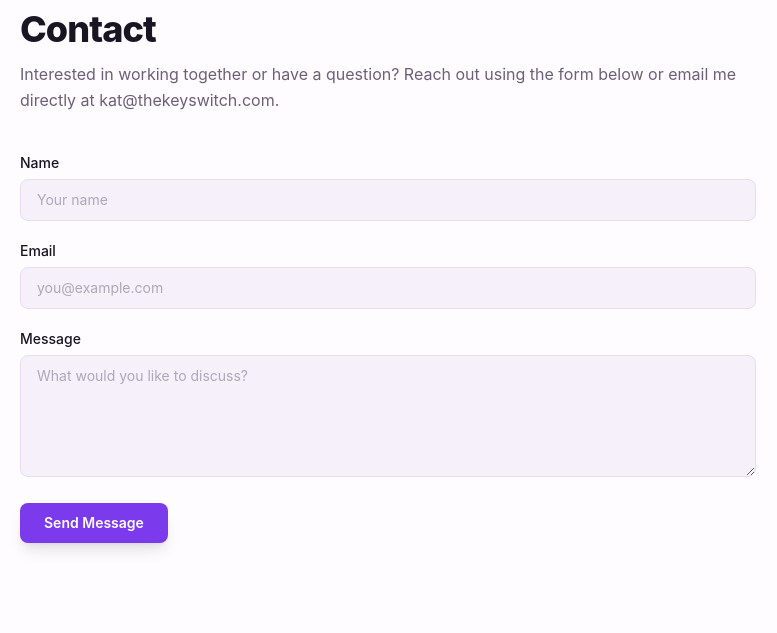
Test: ContactPage › shows generic error on network failure
The width and height of the screenshot is (777, 633).
Type "Test User" into the field labelled "Name" at (388, 200), box [20, 179, 756, 221]
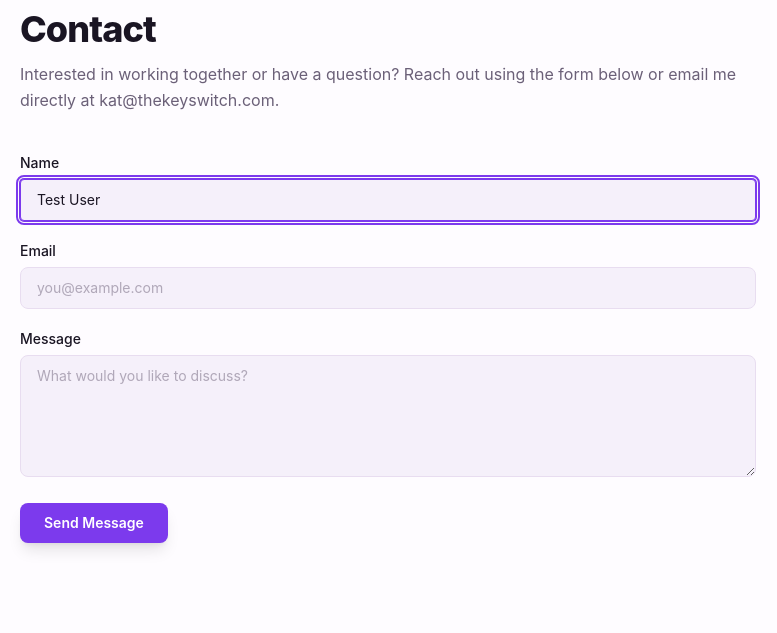
Type "test@example.com" into the field labelled "Email" at (388, 288), box [20, 267, 756, 309]
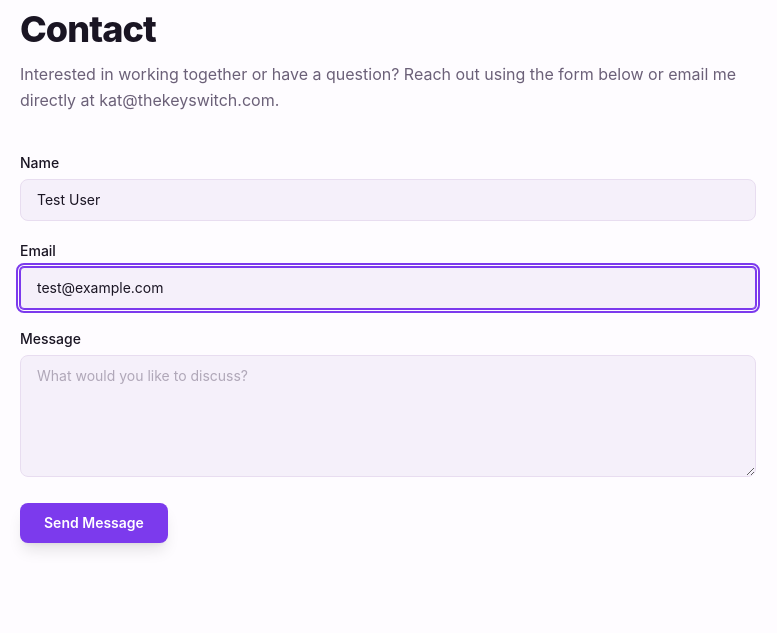
Type "Hello" into the text box labelled "Message" at (388, 416), box [20, 355, 756, 477]
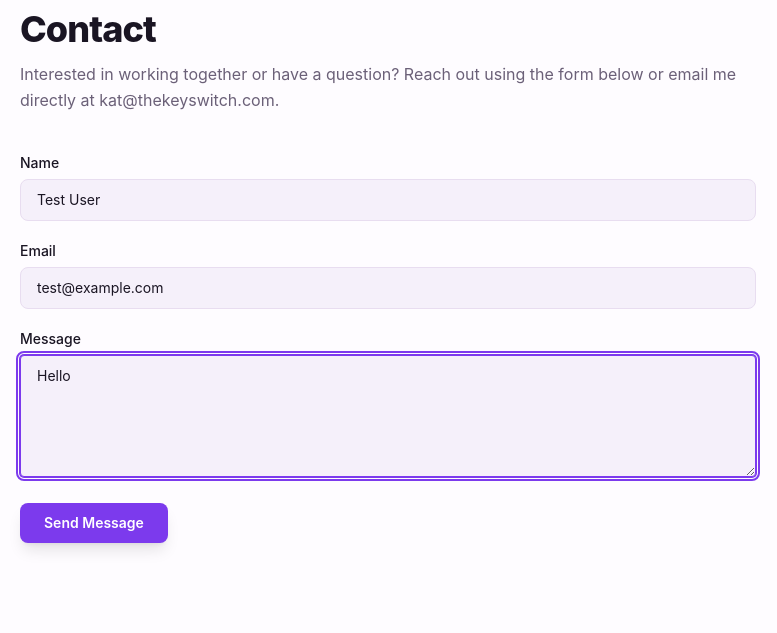
Click the button "Send Message" at (94, 523), box [20, 503, 168, 543]
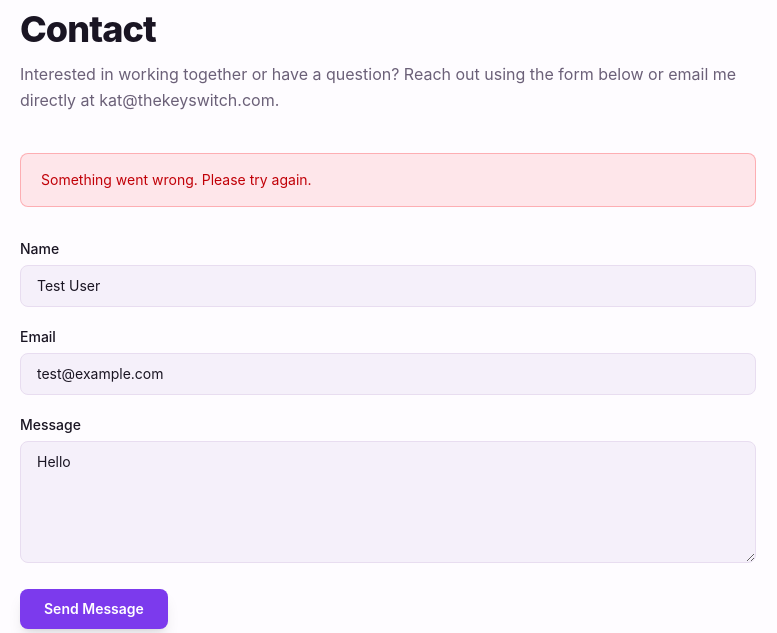
Now the text "Something went wrong. Please try again." is shown, box [20, 153, 756, 207]
